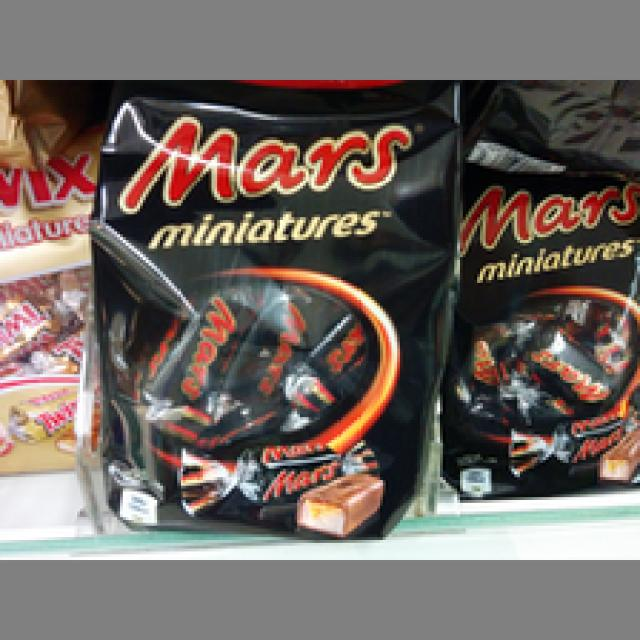groceries: (89, 88, 440, 543), (449, 129, 637, 494), (0, 137, 106, 477)
